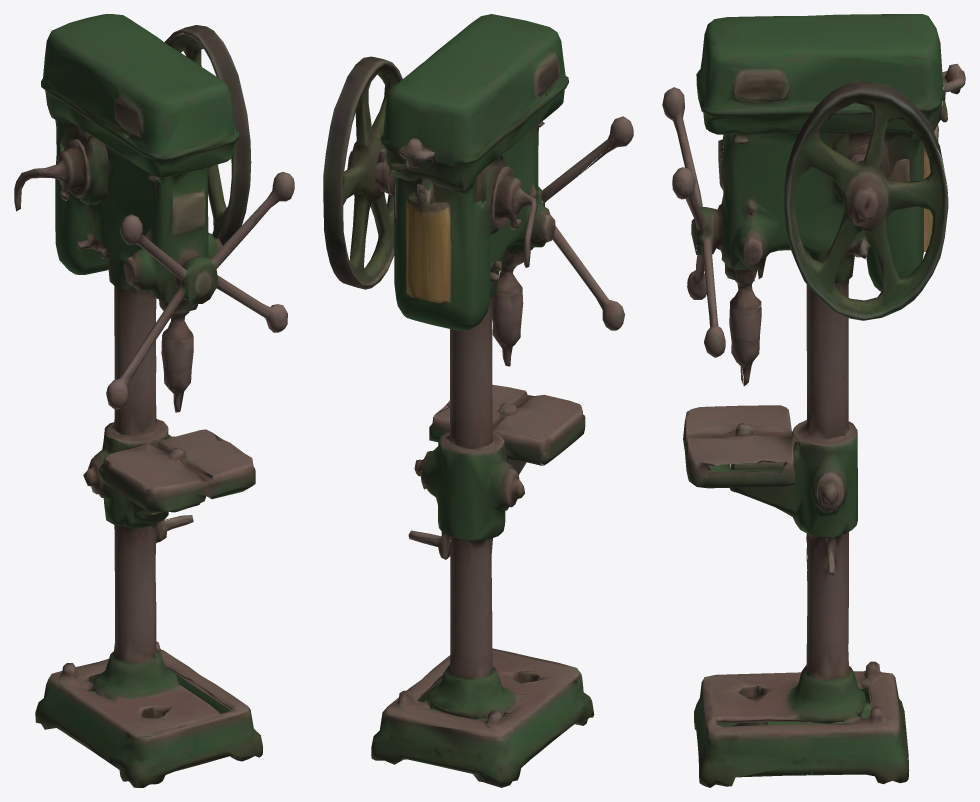
The model's file is taladro.glb.
The picture shows the model from 3 angles, left to right: view 1: azimuth 30°, elevation 25°; view 2: azimuth 150°, elevation 25°; view 3: azimuth 270°, elevation 25°; orthographic projection. The views are drawn at different scales.
Parts seen in each view (by area): view 1: geometry_0; view 2: geometry_0; view 3: geometry_0.
Boxes of the visible parts, bbox=[...] form: geometry_0: bbox=[14, 14, 294, 787]; geometry_0: bbox=[323, 14, 633, 787]; geometry_0: bbox=[662, 14, 965, 787].
Bounding box in the file's own units: 0.5 × 1.7 × 0.65.
Materials: 1 (1 with a texture image).
